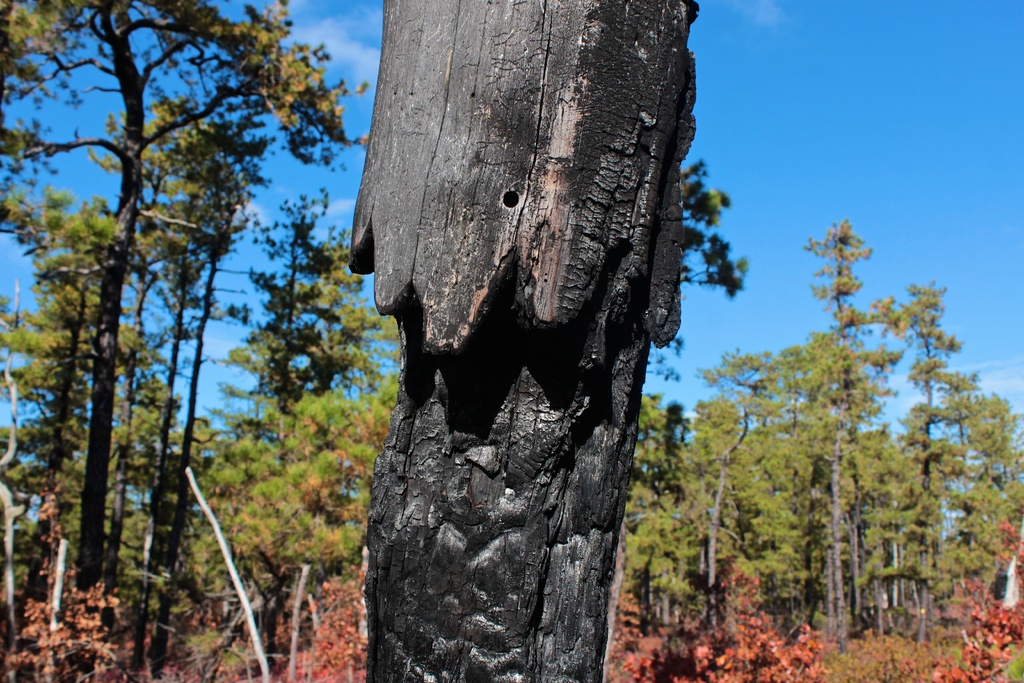Tree: (0, 0, 410, 682), (728, 226, 909, 682)
